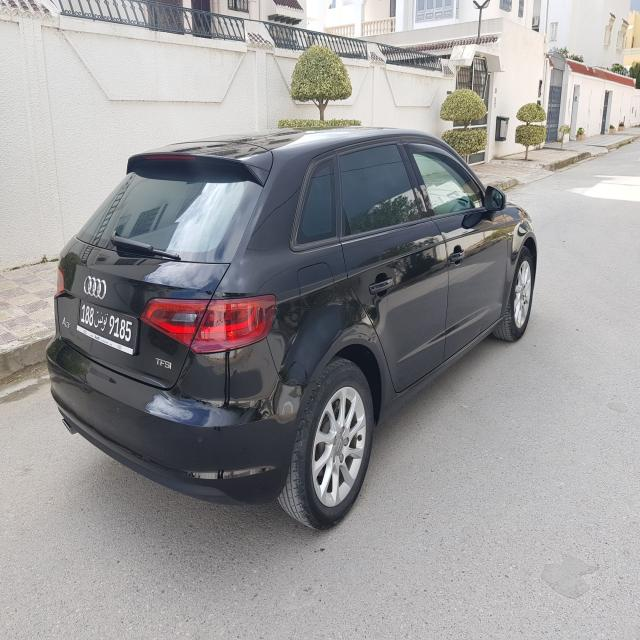LP: (77, 296, 137, 351)
